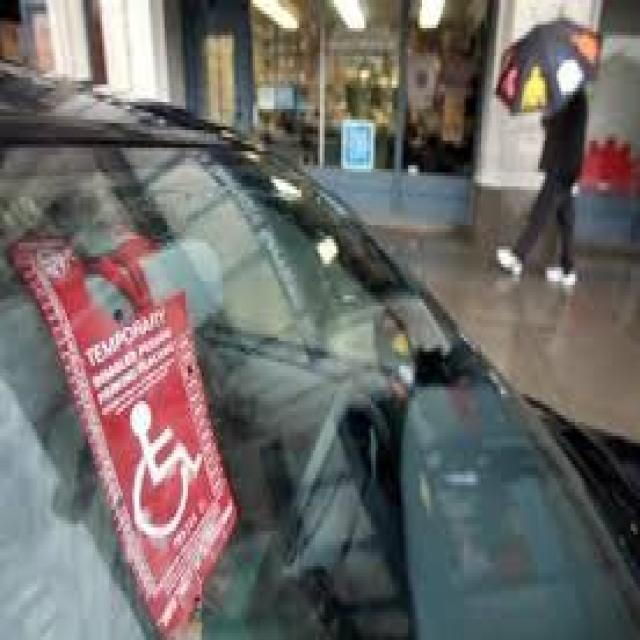symbol_of_access: (116, 401, 212, 542)
